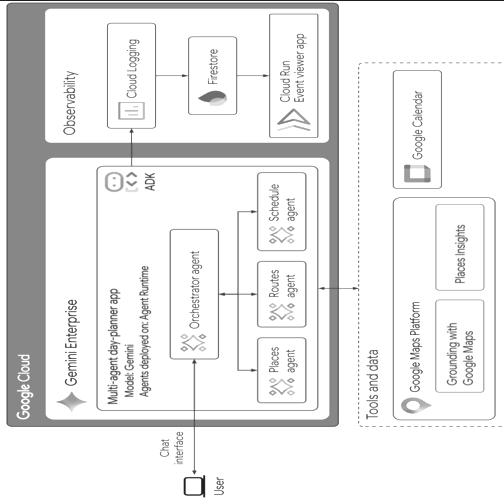actor: (169, 463, 220, 504)
compute: (389, 202, 481, 427), (174, 217, 215, 360), (272, 18, 312, 140), (394, 69, 435, 182), (435, 299, 476, 391), (435, 207, 476, 289), (261, 258, 302, 320), (261, 346, 302, 406), (261, 182, 302, 242), (108, 171, 148, 202)
data_flow: (230, 212, 240, 376), (190, 366, 200, 458), (148, 74, 194, 84), (123, 130, 133, 171), (318, 284, 358, 294), (236, 74, 272, 84), (236, 371, 262, 381), (236, 284, 262, 294), (236, 207, 262, 217), (216, 284, 236, 294)
database_storage: (194, 38, 236, 120)
network_security: (108, 28, 148, 130)
trust_boundary: (5, 7, 338, 432), (46, 156, 328, 422), (97, 166, 318, 412), (358, 69, 502, 427), (46, 12, 328, 146)
